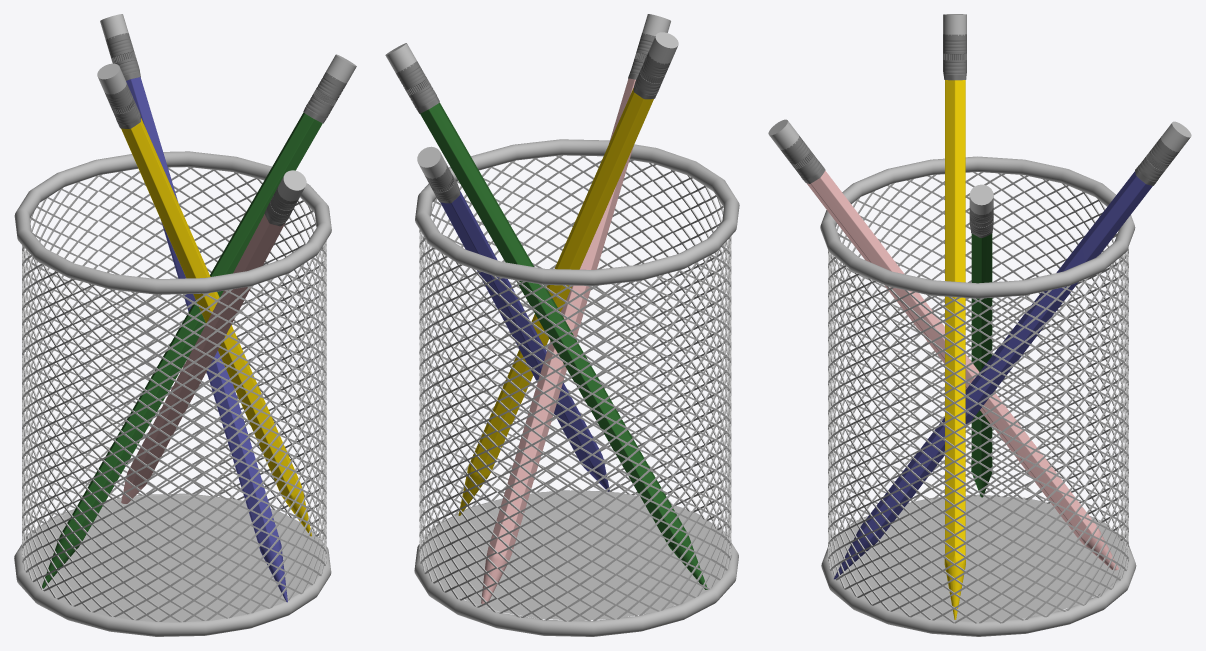
3 renders of one model, left to right at view 1: azimuth 30°, elevation 25°; view 2: azimuth 150°, elevation 25°; view 3: azimuth 270°, elevation 25°, orthographic. The views are drawn at different scales.
Parts seen in each view (by area): view 1: pensil_stand; view 2: pensil_stand; view 3: pensil_stand.
Boxes of the visible parts, left/top/right/bottom form: pensil_stand: left=14, top=14, right=356, bottom=636; pensil_stand: left=385, top=14, right=739, bottom=636; pensil_stand: left=768, top=14, right=1191, bottom=636.
Size of the model in its own units: 1.63 by 2.59 by 1.89.
